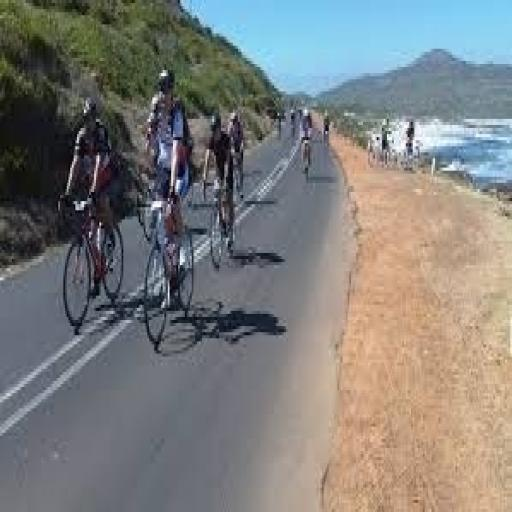cycling: (60, 91, 122, 302), (142, 64, 195, 296), (200, 107, 240, 253)
